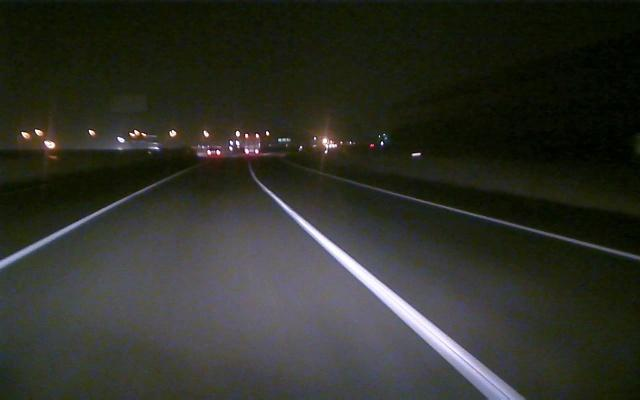lane: (256, 181, 520, 399), (367, 184, 640, 261), (0, 179, 169, 271)
